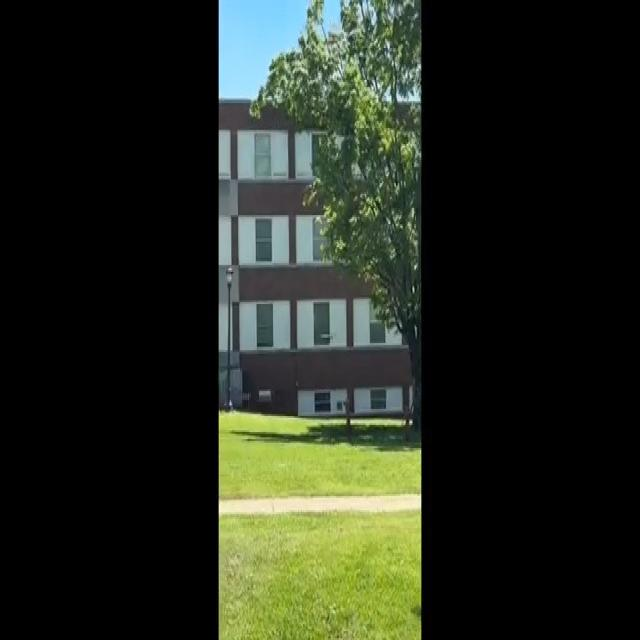drone: (314, 317, 344, 348)
